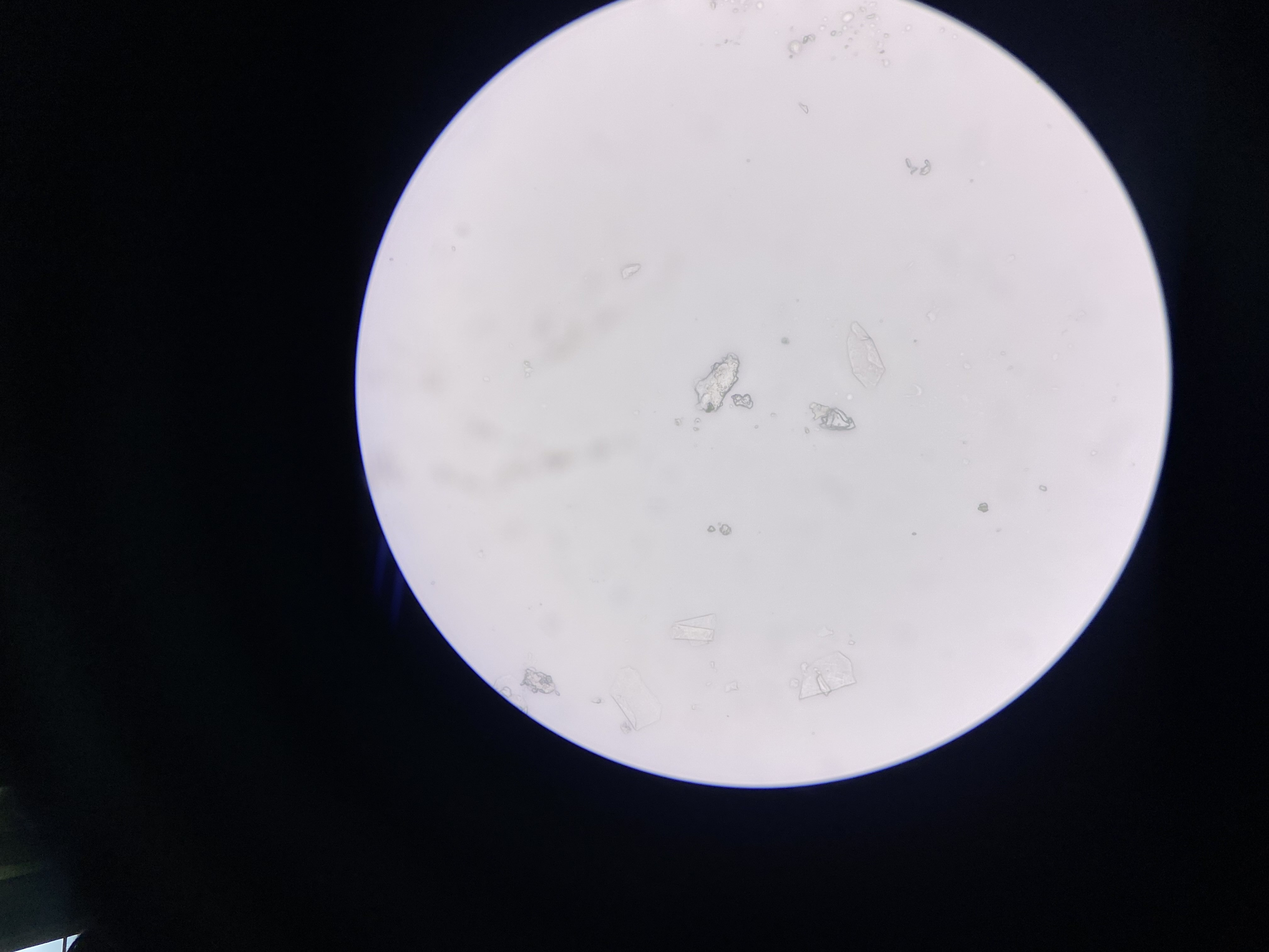not_microplastic: (609, 666, 665, 734), (844, 319, 885, 393), (798, 652, 857, 703), (694, 353, 741, 412), (670, 612, 722, 653), (811, 400, 856, 432), (519, 667, 563, 699), (905, 155, 935, 179), (620, 262, 645, 279), (735, 394, 753, 410), (799, 98, 813, 114), (521, 359, 532, 379), (789, 39, 803, 54), (978, 500, 994, 513), (840, 10, 854, 24), (720, 523, 735, 535), (1035, 483, 1049, 495), (778, 336, 791, 346), (884, 58, 894, 67), (674, 416, 683, 425), (882, 31, 891, 39), (865, 14, 877, 20), (709, 2, 721, 8), (707, 524, 715, 530), (753, 4, 765, 8), (816, 26, 827, 29)
